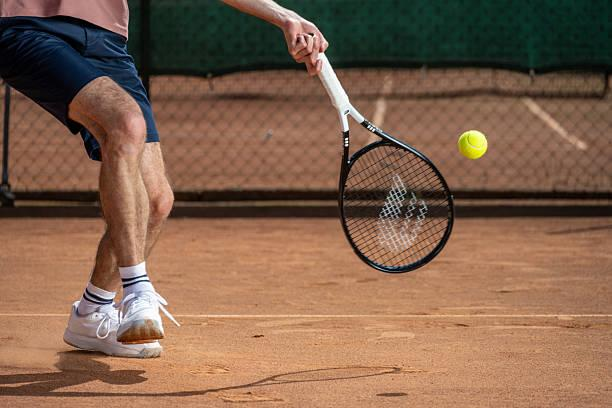ball_tennis: (459, 129, 490, 159)
